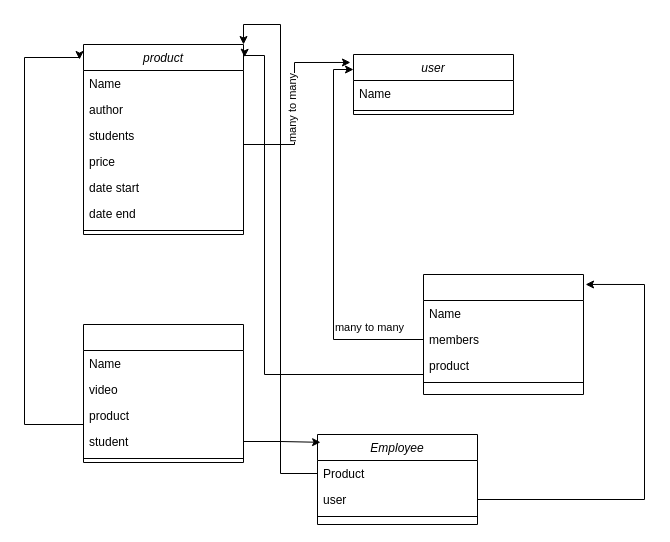
Some shapes in this 670 by 542 pixel diagram are drawn without their labels. Each missing label, with the box of its shape:
group: (422, 274, 584, 394)
lesson: (82, 324, 244, 462)
